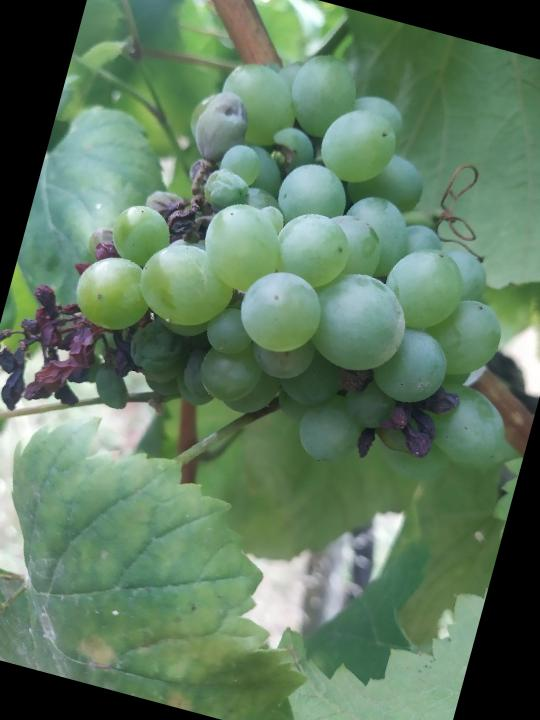grape: (0, 0, 540, 543)
